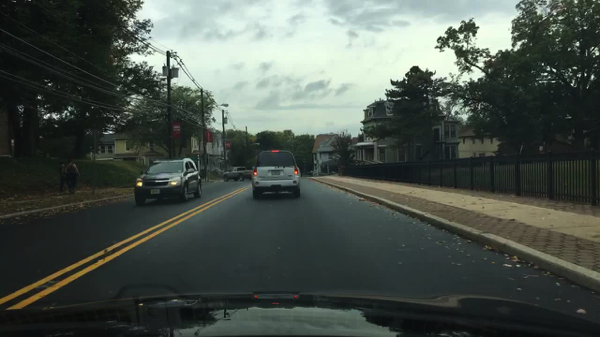car: (134, 157, 202, 207), (251, 149, 300, 199)
person: (67, 159, 81, 194), (59, 161, 68, 193)
truck: (223, 166, 252, 182)
